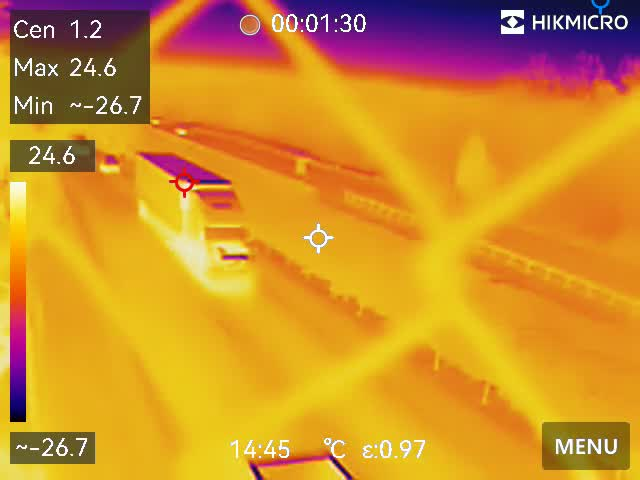heavyTruck: (135, 147, 259, 312)
vehicle: (97, 151, 122, 182), (173, 123, 193, 142), (147, 110, 163, 130)
